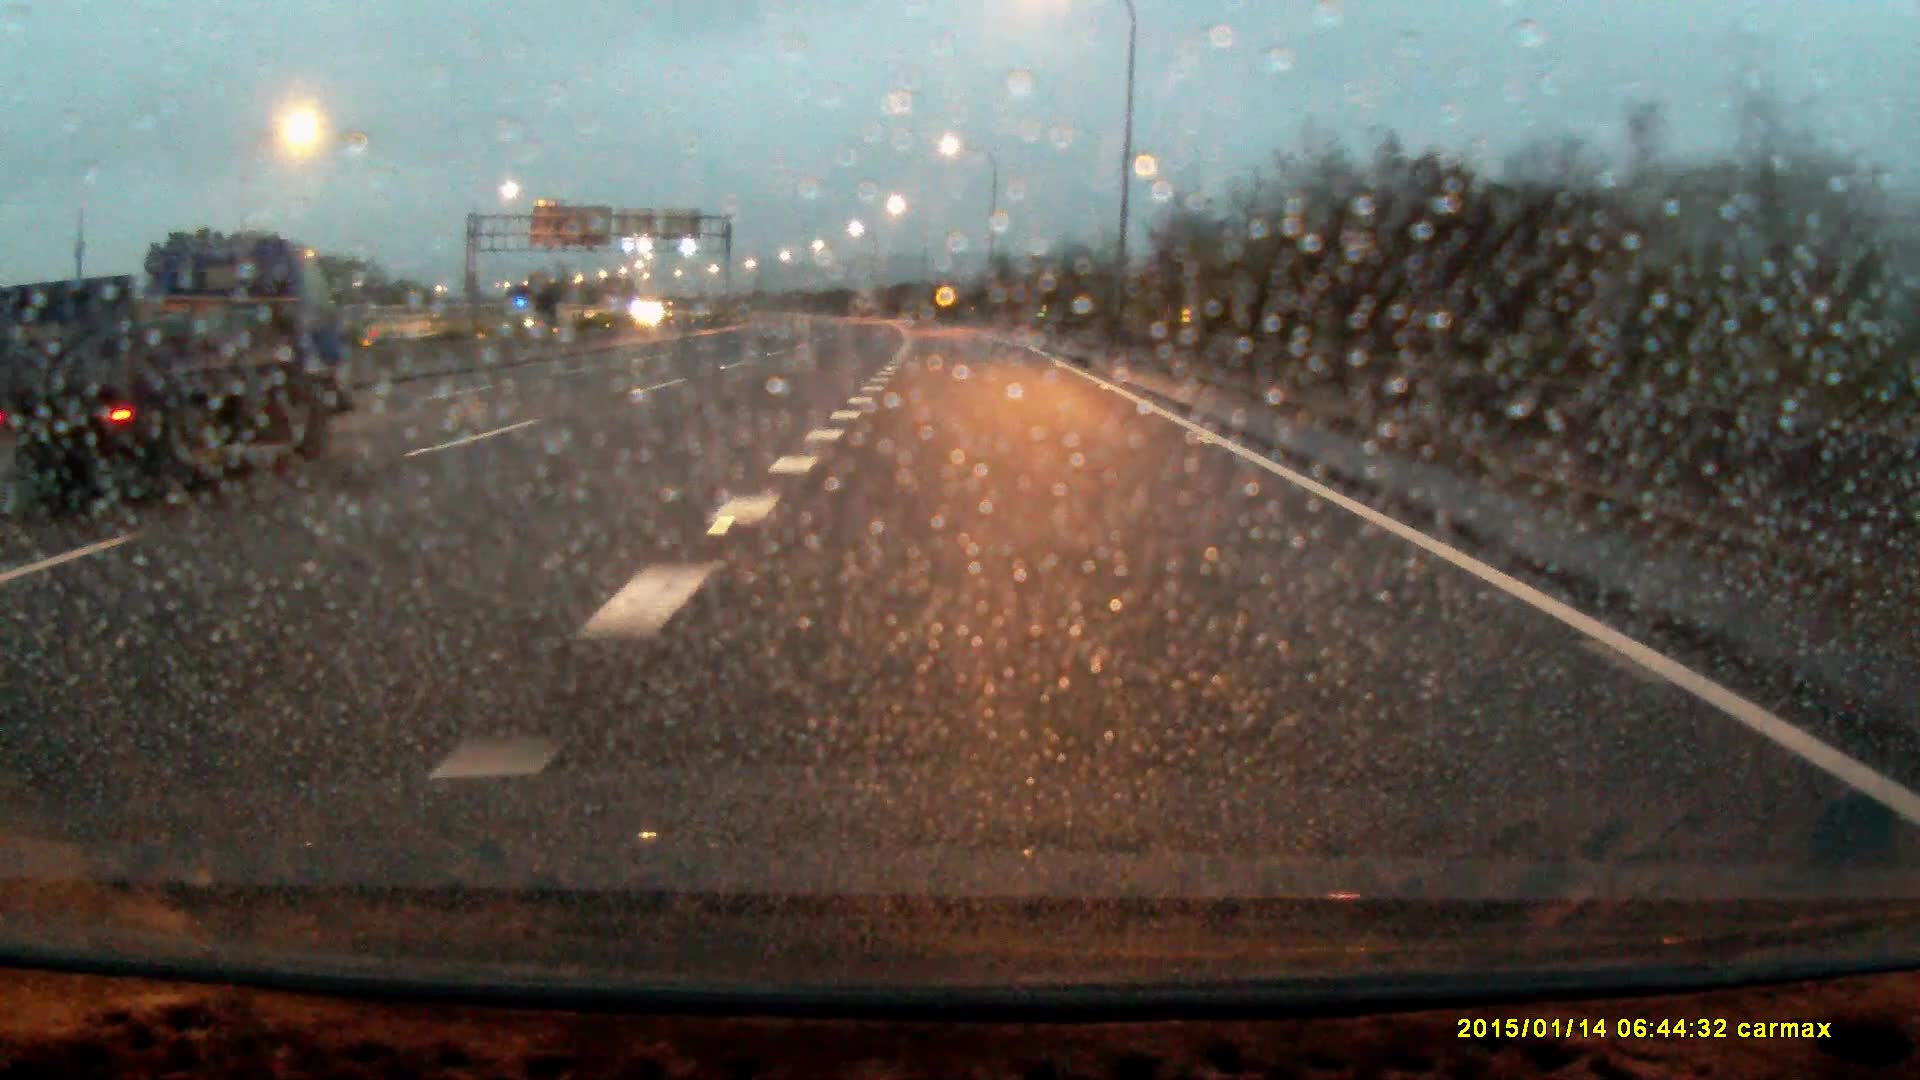vehicle: (1, 225, 375, 509)
